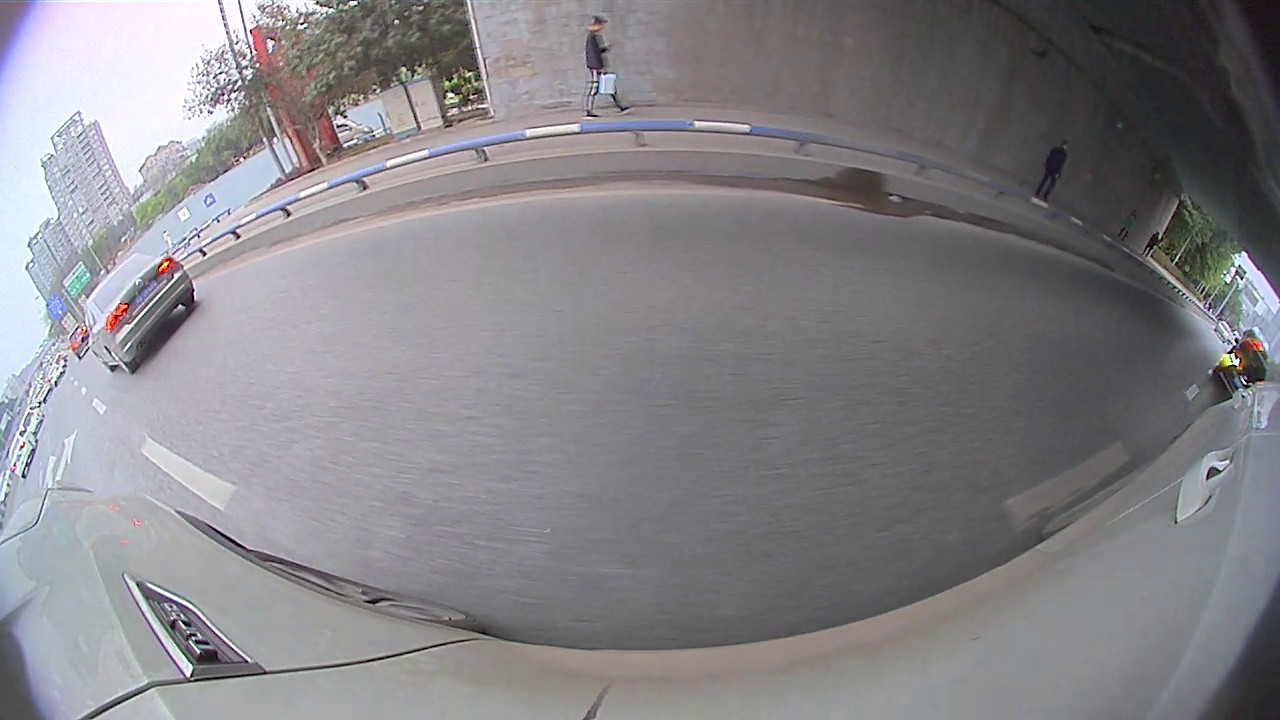car: (83, 251, 196, 377), (1210, 335, 1273, 399), (7, 428, 39, 480)
front: (90, 345, 113, 375)
person: (585, 16, 604, 120), (1048, 140, 1069, 203), (1126, 209, 1138, 246), (1151, 230, 1160, 259)
rear: (104, 346, 139, 378), (173, 283, 199, 312)
